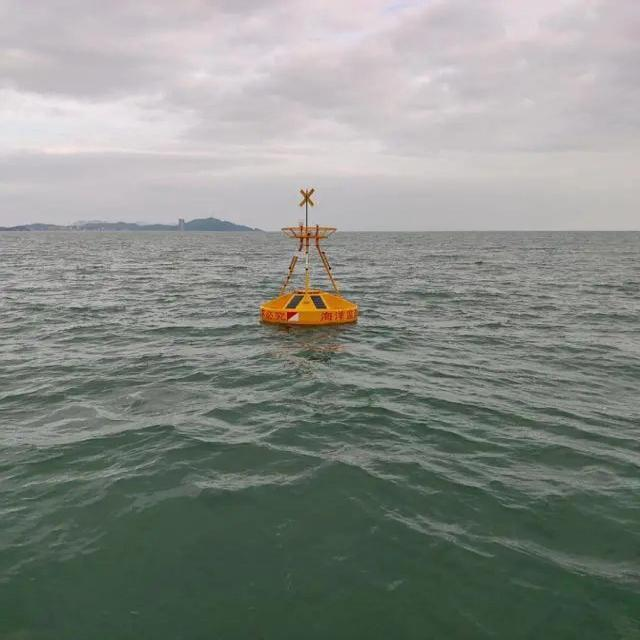buoy: (260, 180, 360, 324)
